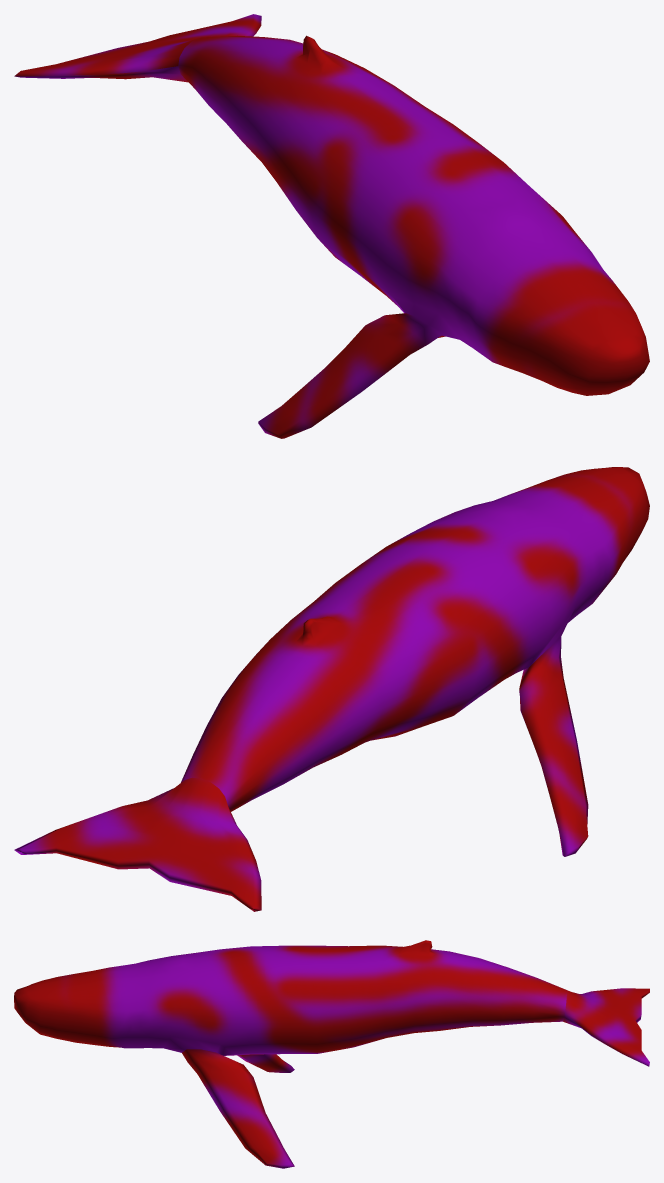
File: SM_Whale.fbx
3 renders of one model, top to bottom at view 1: azimuth 30°, elevation 25°; view 2: azimuth 150°, elevation 25°; view 3: azimuth 270°, elevation 25°, orthographic. The views are drawn at different scales.
Visible parts, largest first — view 1: whale; view 2: whale; view 3: whale.
Boxes of the visible parts, bbox=[...] form: whale: bbox=[14, 14, 649, 438]; whale: bbox=[14, 467, 649, 911]; whale: bbox=[14, 940, 649, 1168].
Size of the model in its own units: 885 by 748 by 2400.
